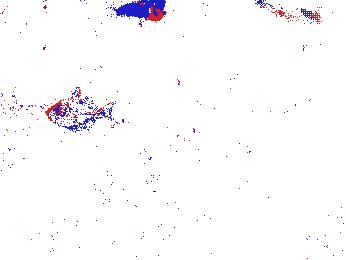X-ray fish: (44, 98, 112, 129)
red belly glassfish: (293, 38, 332, 56)
redtail glassfish: (251, 1, 319, 26)
